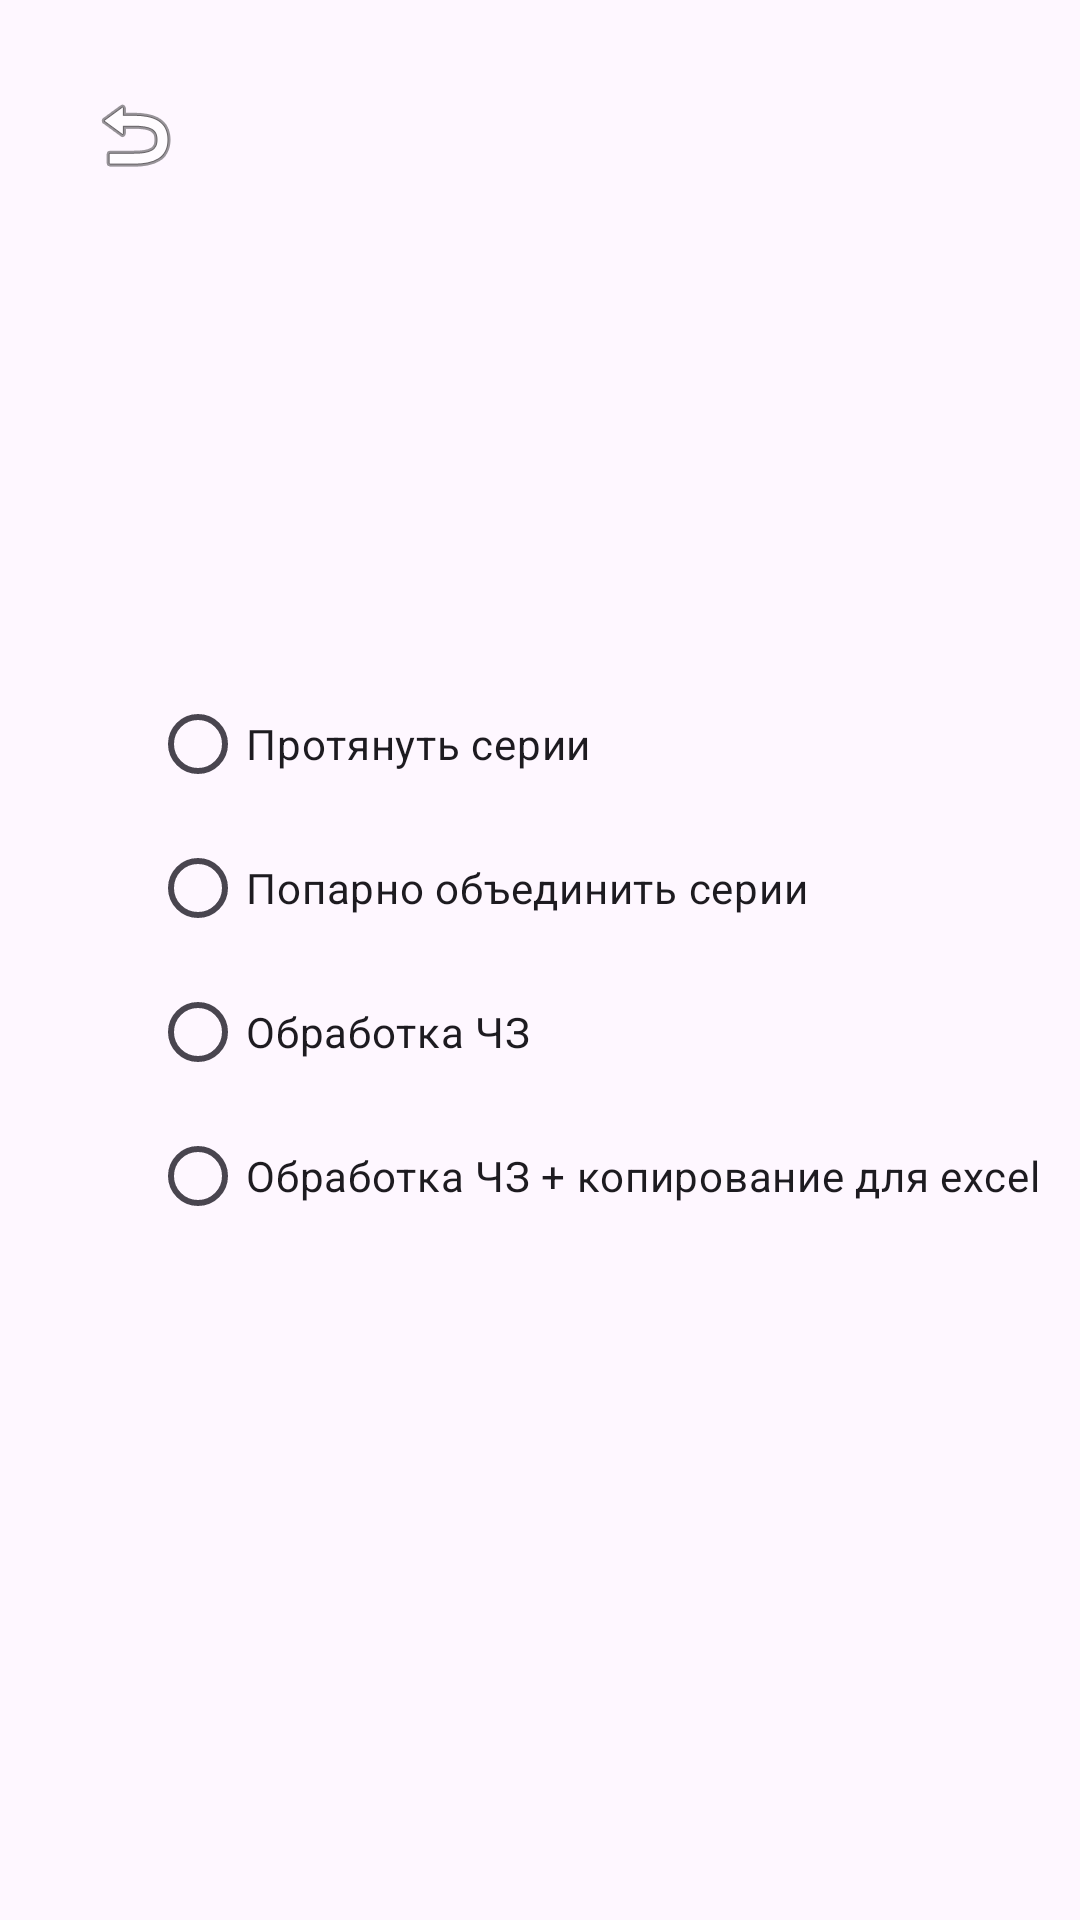

Screen size 1080 x 1920. Icon name, then its box in pixels as (x1, y1, x2, y2):
revert: (102, 104, 171, 167)
